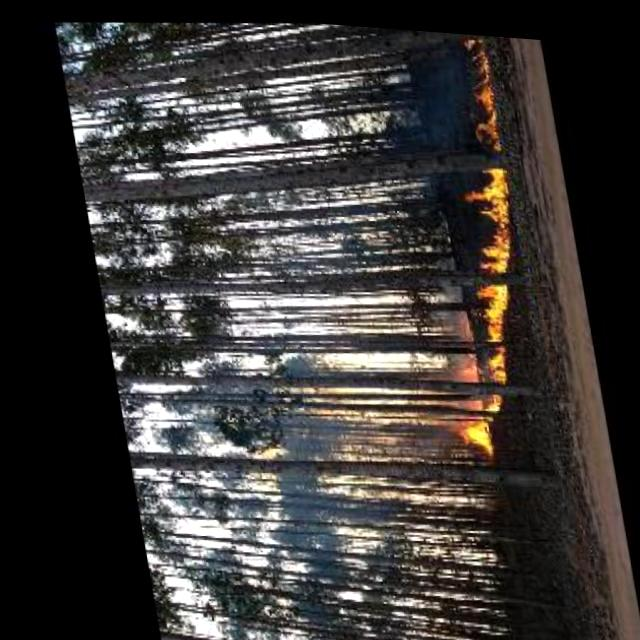fire: (384, 22, 550, 460)
